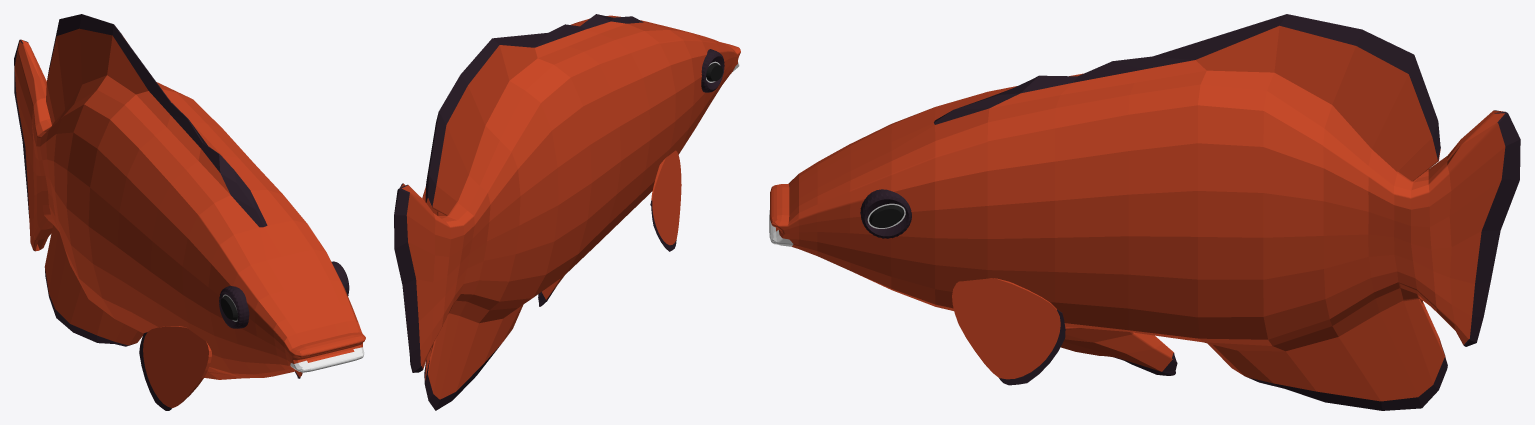
Rendered from model_Red_Fish.fbx.
The picture shows the model from 3 angles, left to right: view 1: azimuth 30°, elevation 25°; view 2: azimuth 150°, elevation 25°; view 3: azimuth 270°, elevation 25°; orthographic projection. The views are drawn at different scales.
Visible parts, largest first — view 1: redfish; view 2: redfish; view 3: redfish.
Part boxes in pixels (x1,y1,x2,y2): redfish: (14,14,365,410); redfish: (394,14,740,410); redfish: (769,14,1520,410).
Size of the model in its own units: 26.11 by 60.37 by 104.
